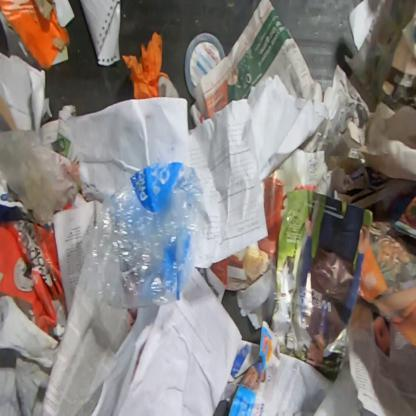cardboard: (0, 218, 66, 338), (0, 0, 70, 72), (0, 51, 53, 130)
rigid_plastic: (184, 32, 226, 100)
soft_plastic: (82, 161, 208, 310), (0, 128, 83, 225)
